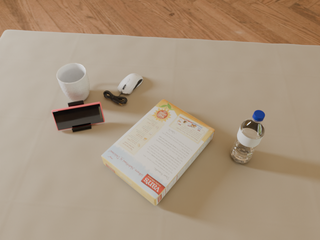bottle: (230, 110, 266, 164)
box: (102, 99, 215, 206)
cup: (57, 63, 90, 101)
mouse: (118, 74, 143, 94)
phone: (52, 102, 105, 130)
